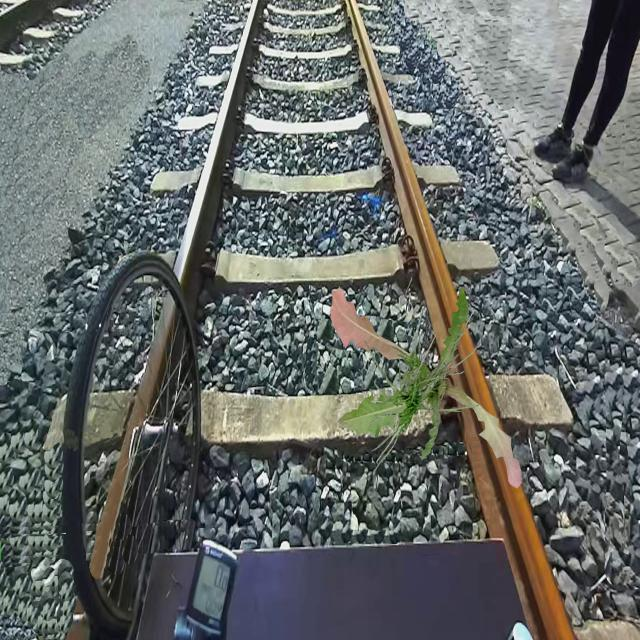Plant: (330, 286, 522, 488), (362, 311, 480, 474)
